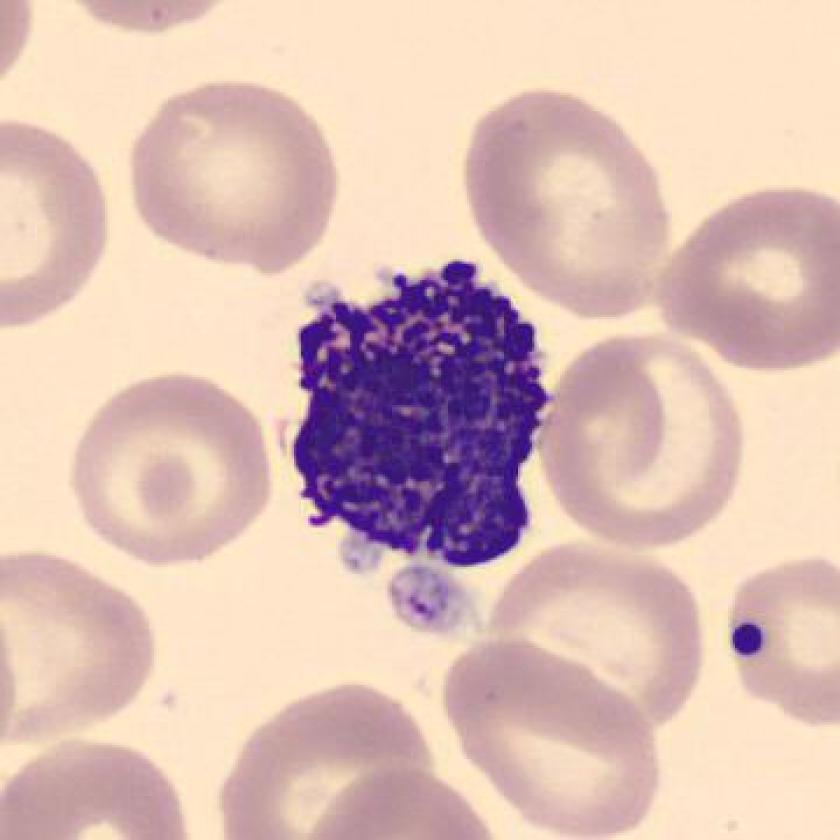basophil: (272, 244, 563, 584)
